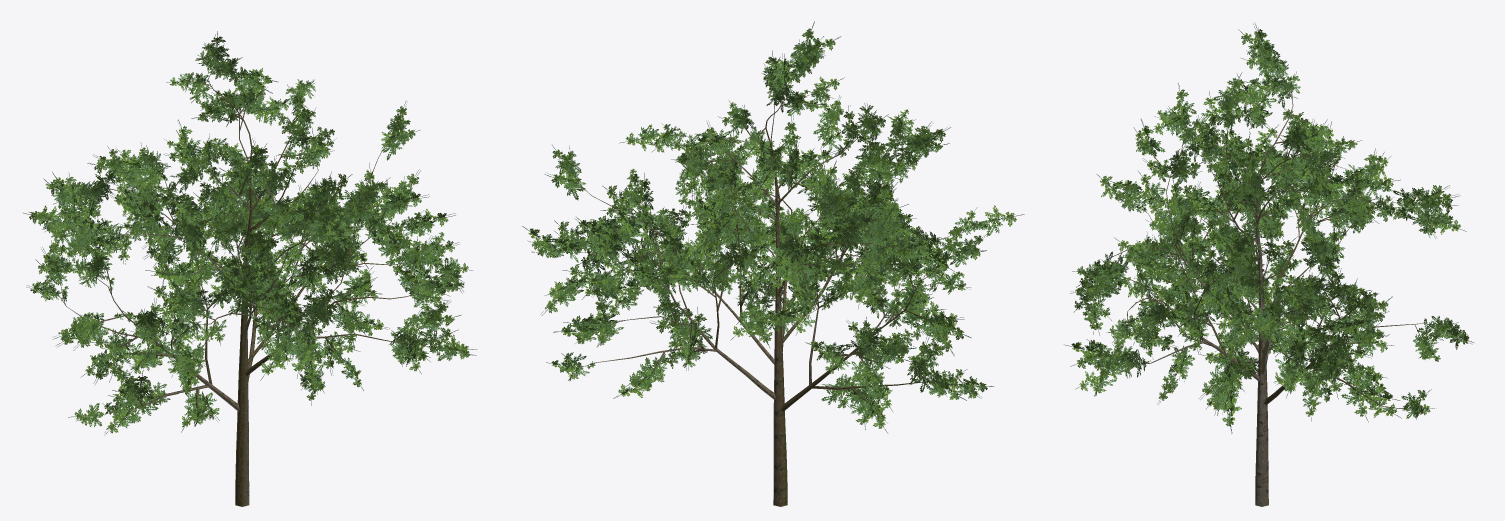
File: rubber-a.glb
3 views of the same model, side by side, from view 1: azimuth 30°, elevation 25°; view 2: azimuth 150°, elevation 25°; view 3: azimuth 270°, elevation 25° (orthographic). The views are drawn at different scales.
Visible parts, largest first — view 1: Tree; view 2: Tree; view 3: Tree.
Part boxes in pixels (<box>): Tree: <box>23,31,477,506</box>; Tree: <box>522,21,1024,506</box>; Tree: <box>1064,22,1473,506</box>.
Size of the model in its own units: 18.06 by 20 by 16.5.
Materials: 2 (2 with a texture image).
